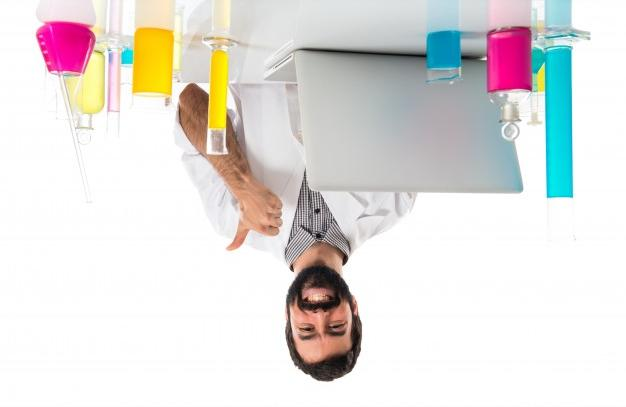thumbsdown: (226, 199, 283, 251)
